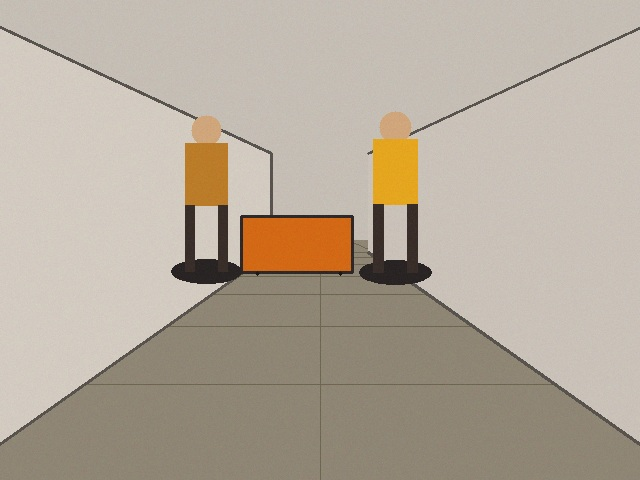cart: (241, 216, 352, 272)
person: (363, 111, 427, 272), (175, 115, 237, 271)
